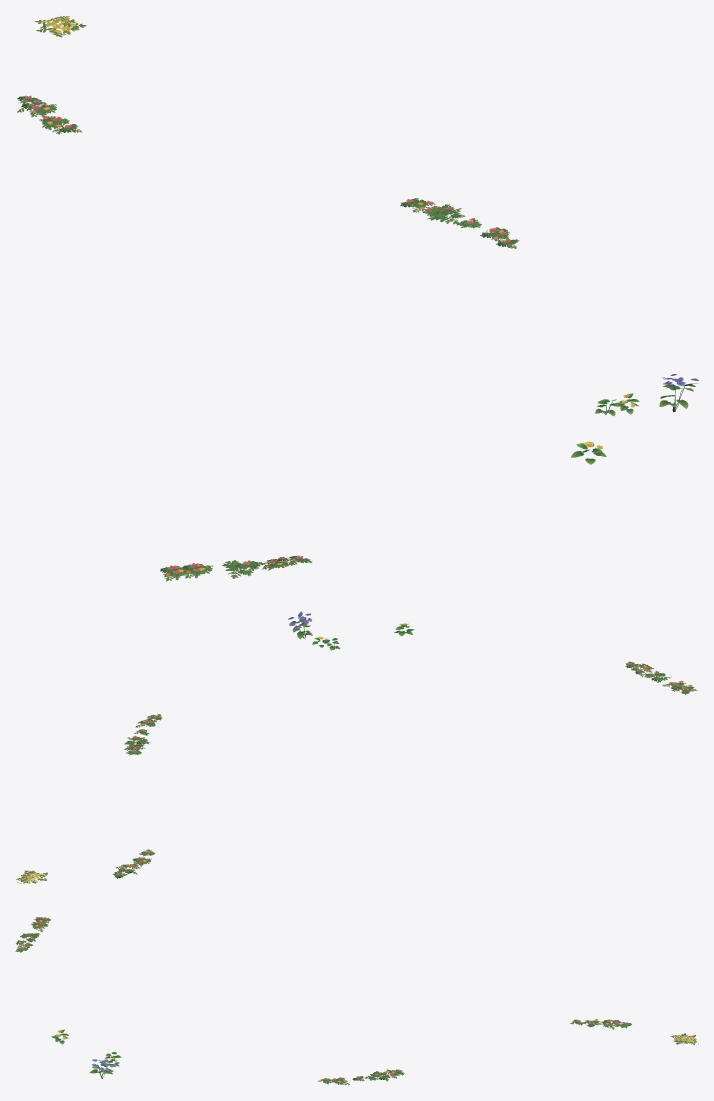
File: pref_sm_garden_plan_vertexcolor_01_lv2.fbx
The picture shows the model from 3 angles, top to bottom: view 1: azimuth 30°, elevation 25°; view 2: azimuth 150°, elevation 25°; view 3: azimuth 270°, elevation 25°; orthographic projection. The views are drawn at different scales.
Parts seen in each view (by area): view 1: pref_sm_garden_plan_vertexcolor_01_lv2; view 2: pref_sm_garden_plan_vertexcolor_01_lv2; view 3: pref_sm_garden_plan_vertexcolor_01_lv2.
Part boxes in pixels (x1,y1,x2,y2): pref_sm_garden_plan_vertexcolor_01_lv2: (17, 16, 698, 581); pref_sm_garden_plan_vertexcolor_01_lv2: (16, 611, 697, 883); pref_sm_garden_plan_vertexcolor_01_lv2: (15, 917, 698, 1085).
Size of the model in its own units: 29.09 by 1.5 by 49.93.
